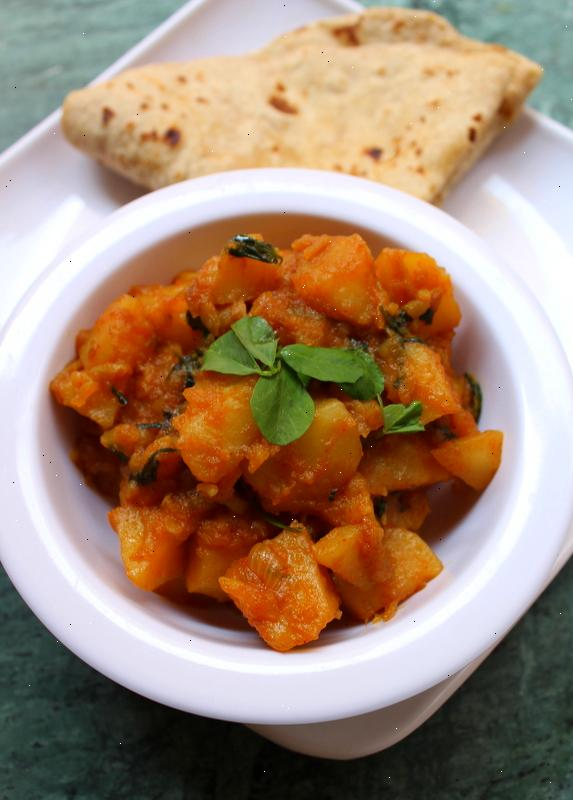aloo sabji: (85, 269, 466, 580)
roti phulka: (72, 0, 524, 183)
